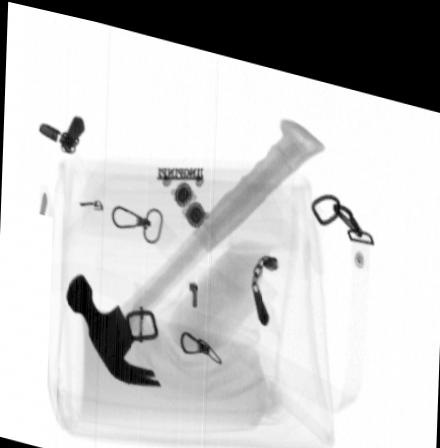Hammer: (63, 104, 324, 381)
